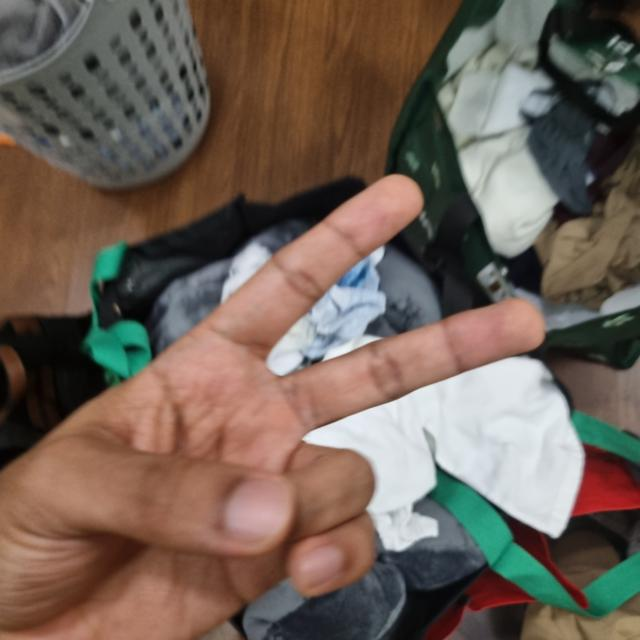Scissors: (0, 179, 547, 639)
